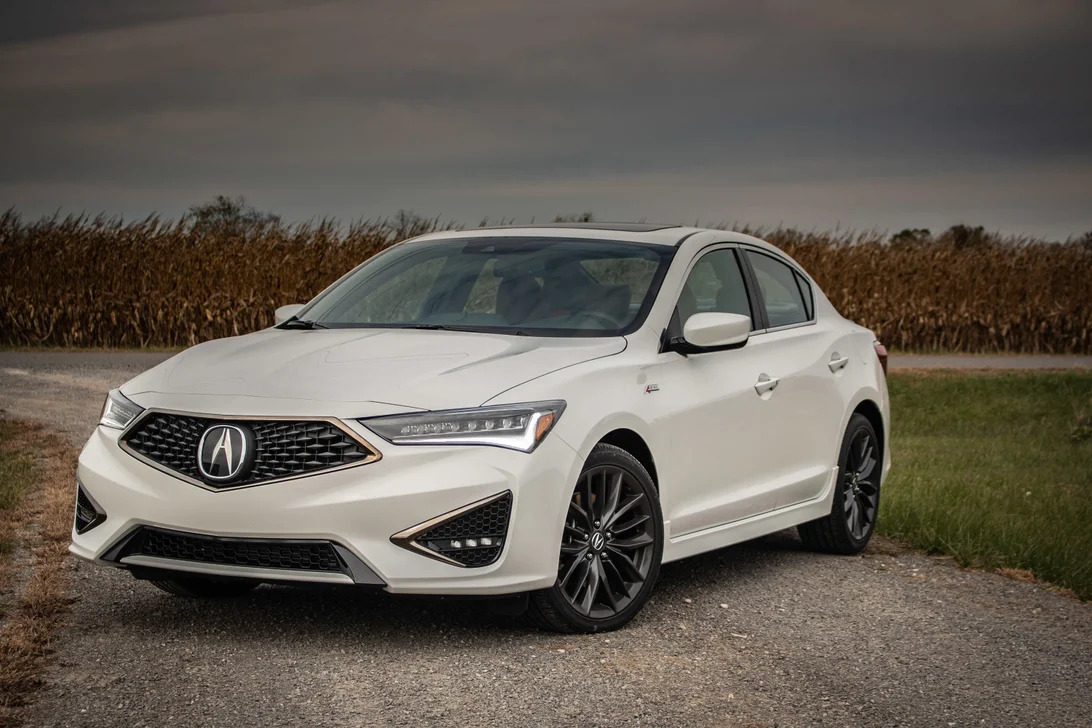Fog Lamp & Scope: (415, 499, 514, 562)
Front: (68, 341, 629, 593)
Front Bumper: (72, 494, 565, 590)
Grill: (145, 424, 353, 482)
Headlight: (383, 402, 565, 447)
